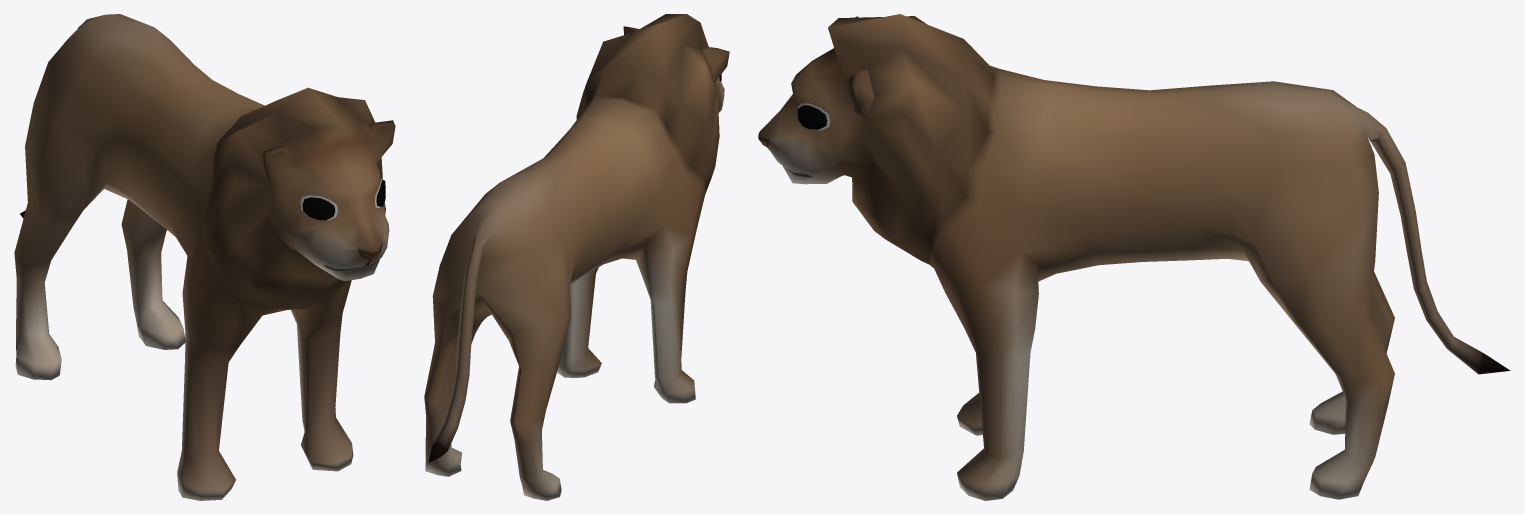
3 views of the same model, side by side, from view 1: azimuth 30°, elevation 25°; view 2: azimuth 150°, elevation 25°; view 3: azimuth 270°, elevation 25° (orthographic). The views are drawn at different scales.
Parts seen in each view (by area): view 1: alt604; view 2: alt604; view 3: alt604.
Boxes of the visible parts, x1,y1,x2,y2 form: alt604: (14, 14, 395, 500); alt604: (424, 14, 729, 500); alt604: (758, 14, 1510, 500).
Size of the model in its own units: 0.1395 by 0.3247 by 0.5.
